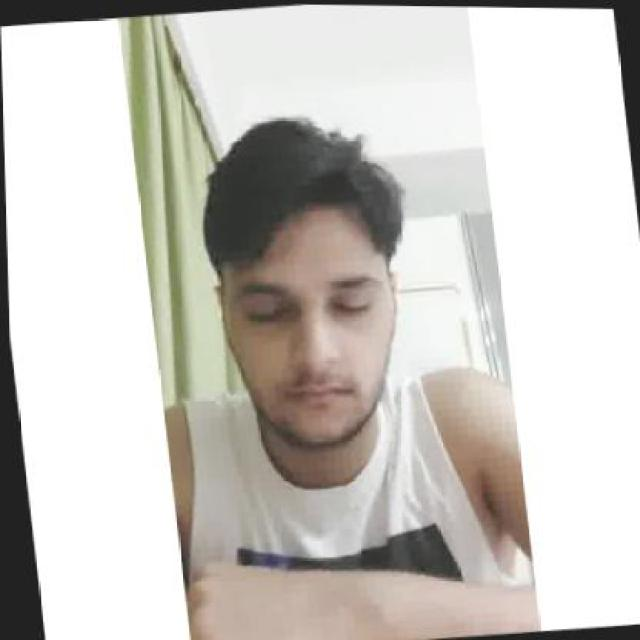inattentif: (187, 110, 411, 456)
